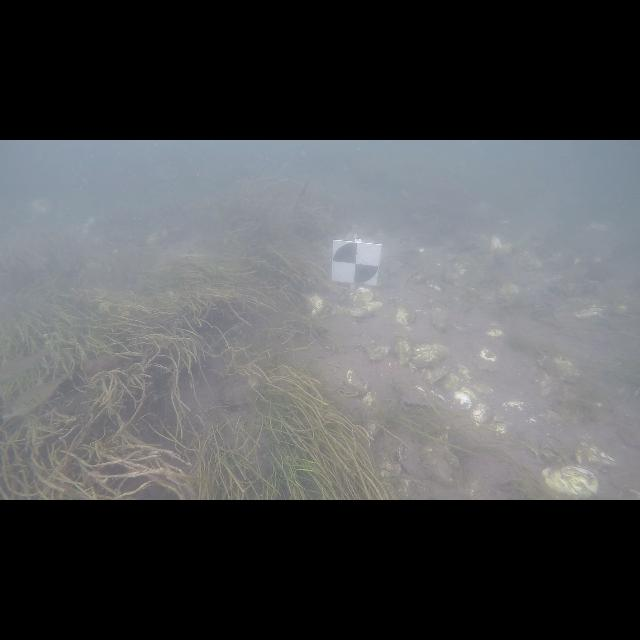Oyster-Closed: (418, 434, 461, 488), (541, 466, 599, 498), (412, 344, 449, 368), (346, 370, 368, 394), (475, 349, 498, 371), (395, 338, 412, 365), (394, 304, 411, 328), (440, 372, 460, 392), (351, 288, 372, 306), (471, 404, 486, 426), (454, 391, 472, 409), (368, 346, 390, 360), (490, 415, 506, 434), (308, 295, 324, 314), (427, 369, 447, 384), (502, 401, 525, 411), (362, 391, 375, 406)
Oyster-Open: (398, 384, 433, 415), (345, 300, 384, 323), (395, 438, 416, 477), (410, 310, 419, 327)
